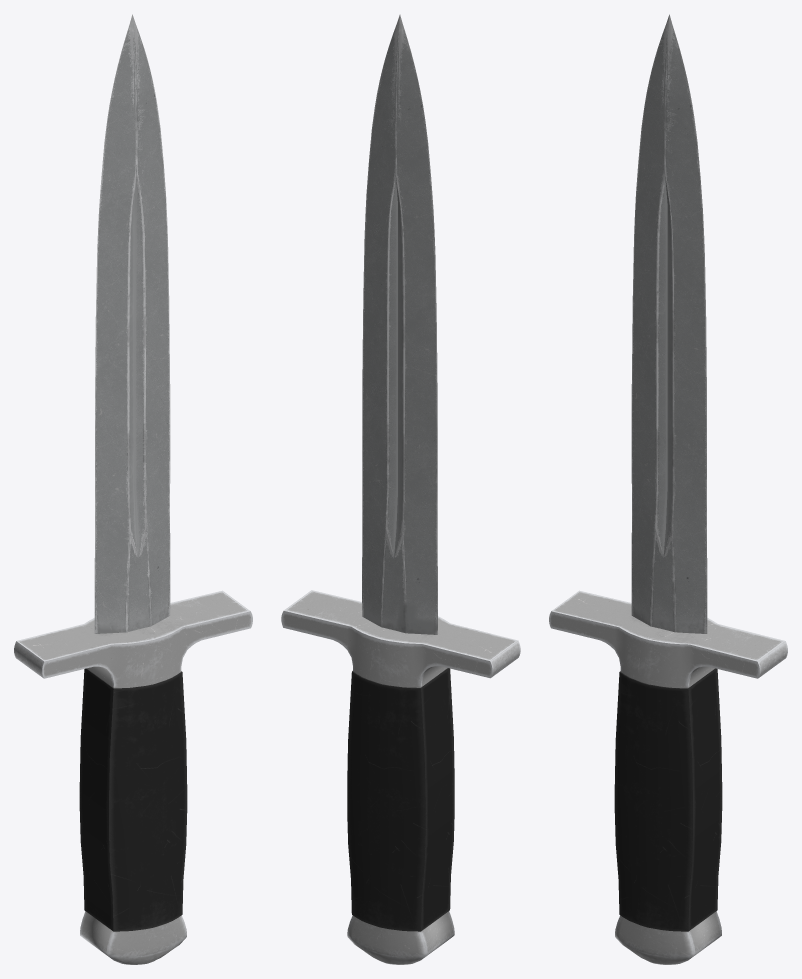
The model's file is GAM0210004.fbx.
3 renders of one model, left to right at view 1: azimuth 30°, elevation 25°; view 2: azimuth 150°, elevation 25°; view 3: azimuth 330°, elevation 25°, orthographic.
Visible parts, largest first — view 1: smGAM0210004; view 2: smGAM0210004; view 3: smGAM0210004.
Boxes of the visible parts, x1,y1,x2,y2 form: smGAM0210004: (14, 14, 252, 964); smGAM0210004: (281, 14, 520, 964); smGAM0210004: (549, 14, 787, 964).
Size of the model in its own units: 10.42 by 44.34 by 3.53.
1 material, 1 textured.
